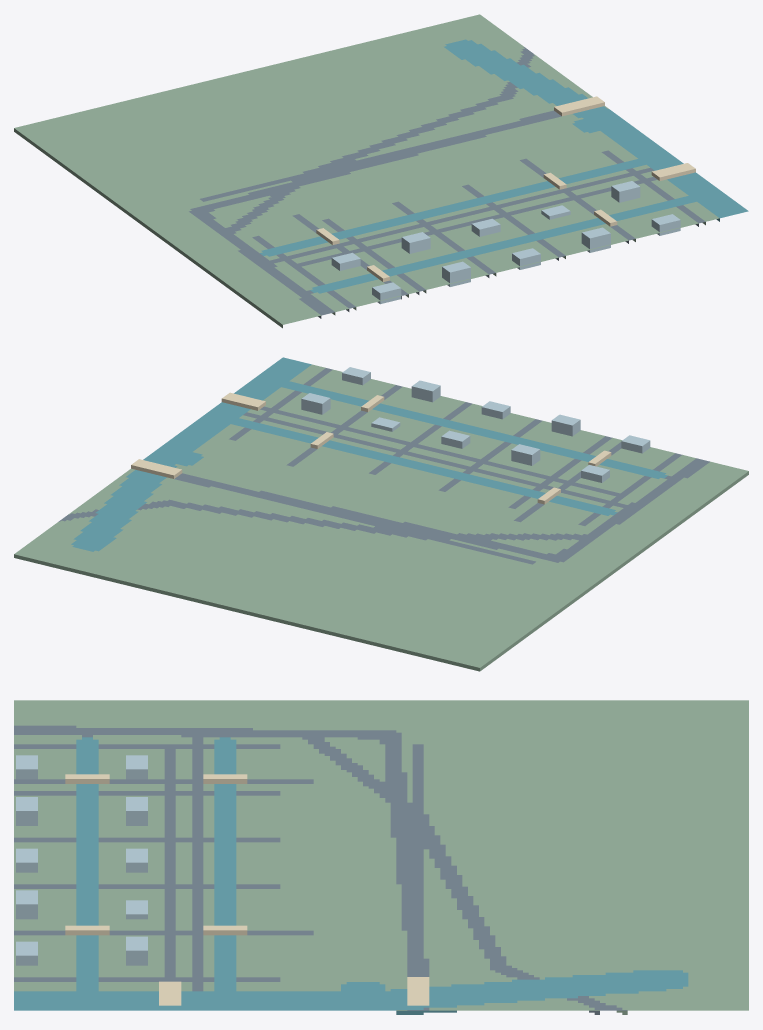
The model's file is sector-sw.glb.
The picture shows the model from 3 angles, top to bottom: view 1: azimuth 30°, elevation 25°; view 2: azimuth 150°, elevation 25°; view 3: azimuth 270°, elevation 25°; orthographic projection. The views are drawn at different scales.
Parts seen in each view (by area): view 1: material_1, material_2, material_3, material_4, material_6; view 2: material_1, material_2, material_3, material_4, material_6; view 3: material_1, material_2, material_3, material_4, material_6.
Part boxes in pixels (x1,y1,x2,y2): material_1: (14, 14, 719, 328); material_2: (189, 47, 705, 318); material_3: (260, 39, 748, 293); material_4: (331, 181, 680, 304); material_6: (316, 96, 695, 281); material_1: (14, 364, 748, 671); material_2: (58, 368, 709, 564); material_3: (71, 357, 667, 551); material_4: (301, 367, 650, 482); material_6: (131, 392, 611, 504); material_1: (14, 700, 748, 1014); material_2: (14, 725, 627, 1014); material_3: (14, 737, 688, 1014); material_4: (16, 755, 147, 965); material_6: (65, 774, 429, 1005).
Bounding box in the file's own units: 1333 × 40 × 1333.
